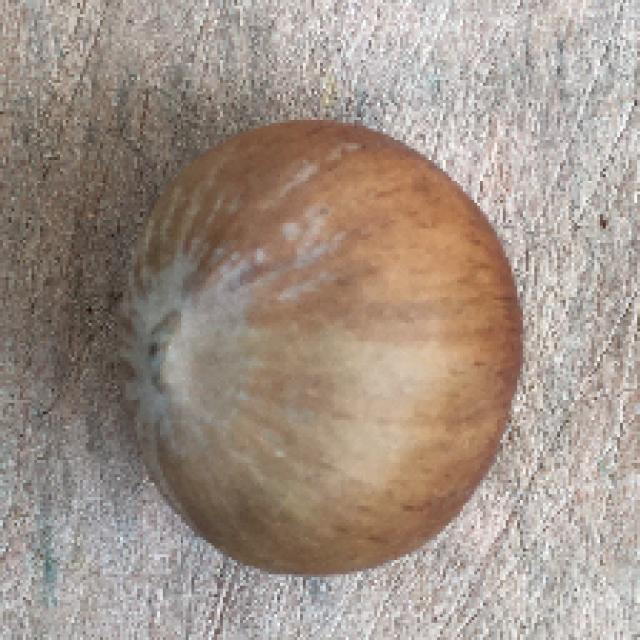qualityHazelnut: (112, 115, 516, 580)
